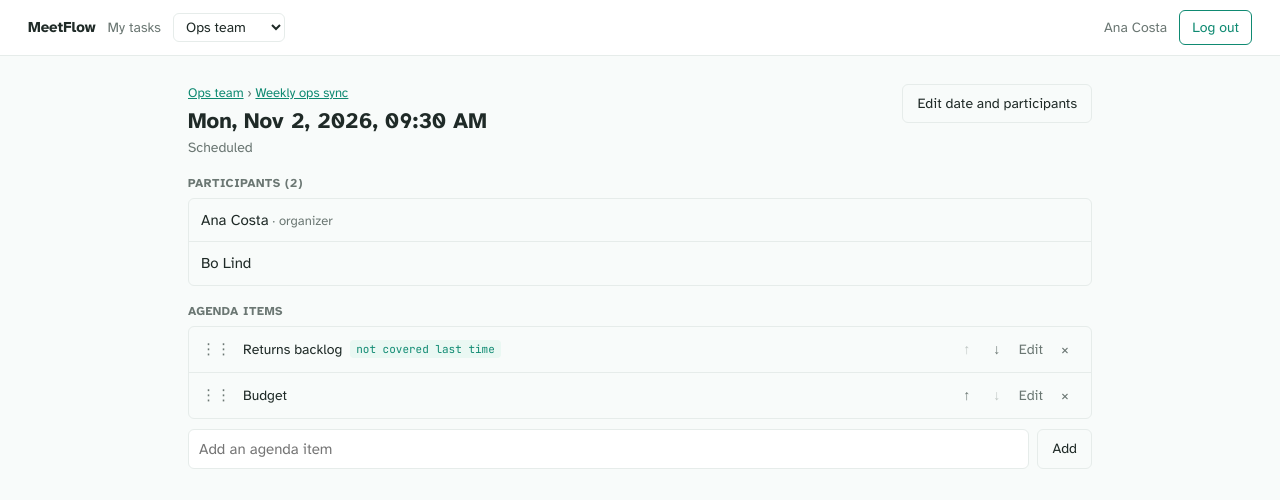
Test: the agenda › tags carried-over items and lets the organizer remove them
Expected: the text "not covered last time" is shown, [350,340,501,358]
Click the button named "Remove Returns backlog": (1065, 349) [1051,336,1079,362]
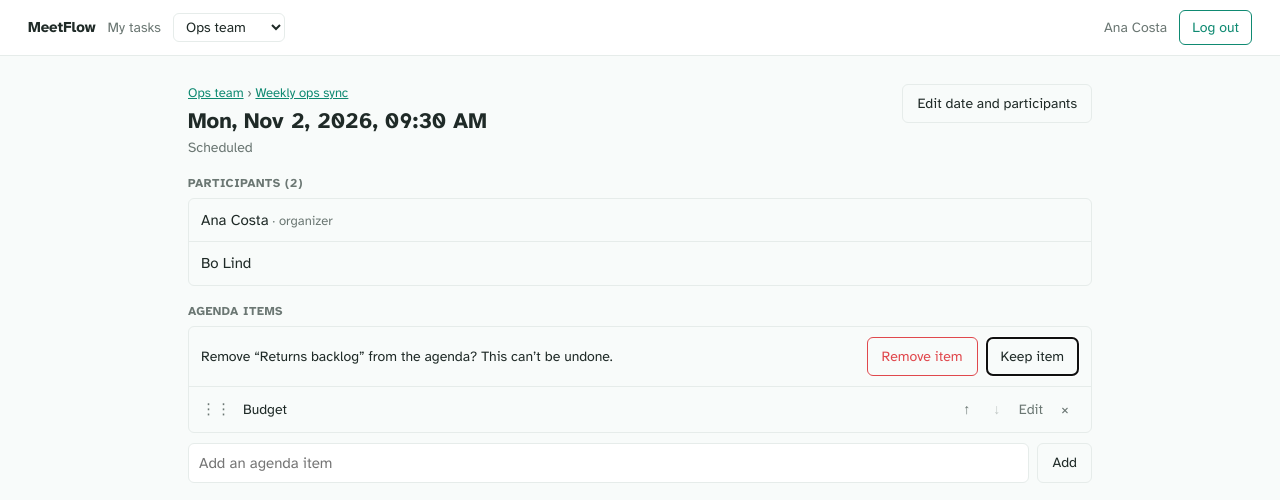
Click the button "Remove item": (922, 356) [867,336,978,376]
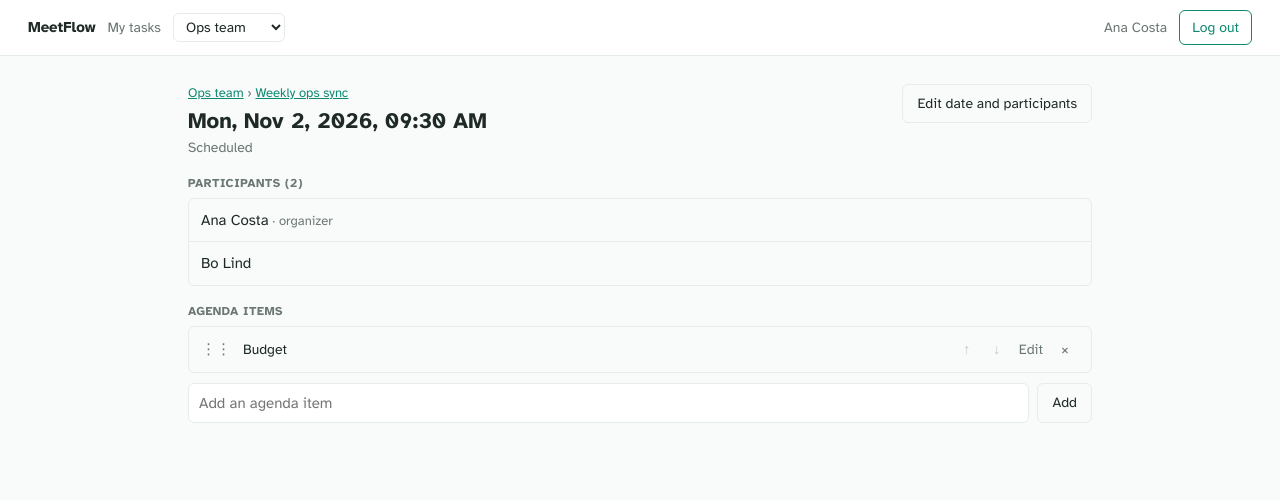
Expected: the text "Budget" is shown, [243,340,287,358]
Expected: the text "Returns backlog" is gone
Expected: the button "Remove item" is gone
